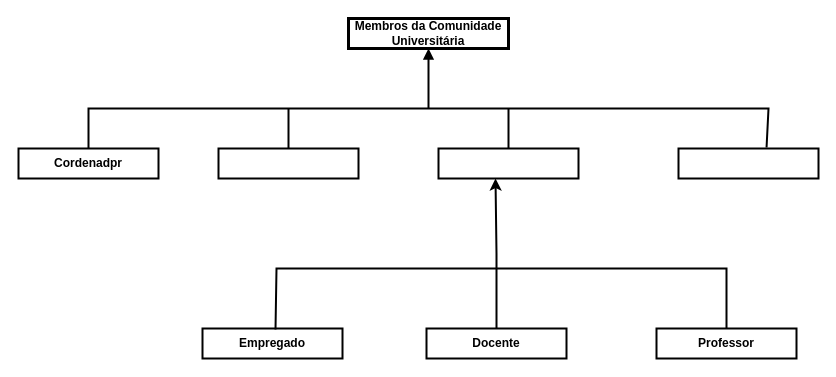
Image size: 836x377. Some labels were removed from this diagram. The shapes that lost their labels are listed below. From the top down, each one's centre as x and y in pixels, then its label:
At [288,163]: "Estudante".
At [508,163]: "Funcionário".
At [748,163]: "Graduado".
